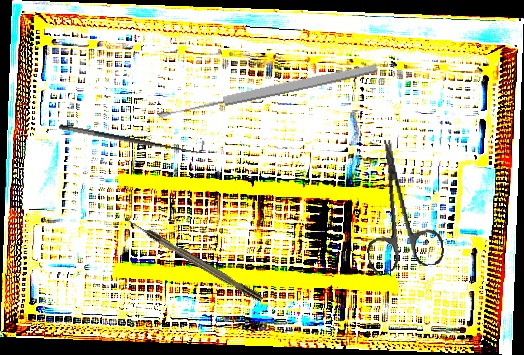Hook Surgical: (122, 214, 264, 304), (58, 113, 207, 159)
Iris Scissors: (352, 134, 446, 274)
Surgical Spoon: (156, 61, 379, 122)
